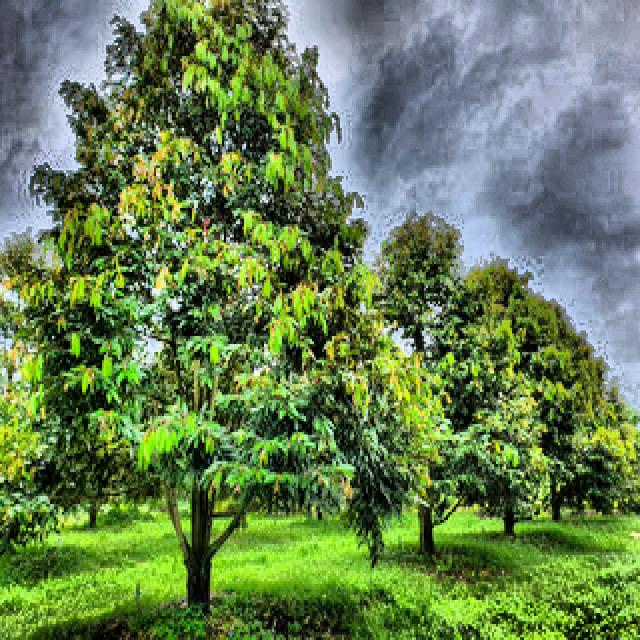arvore: (160, 320, 242, 640), (409, 431, 446, 580), (542, 447, 569, 533), (499, 461, 524, 545)
